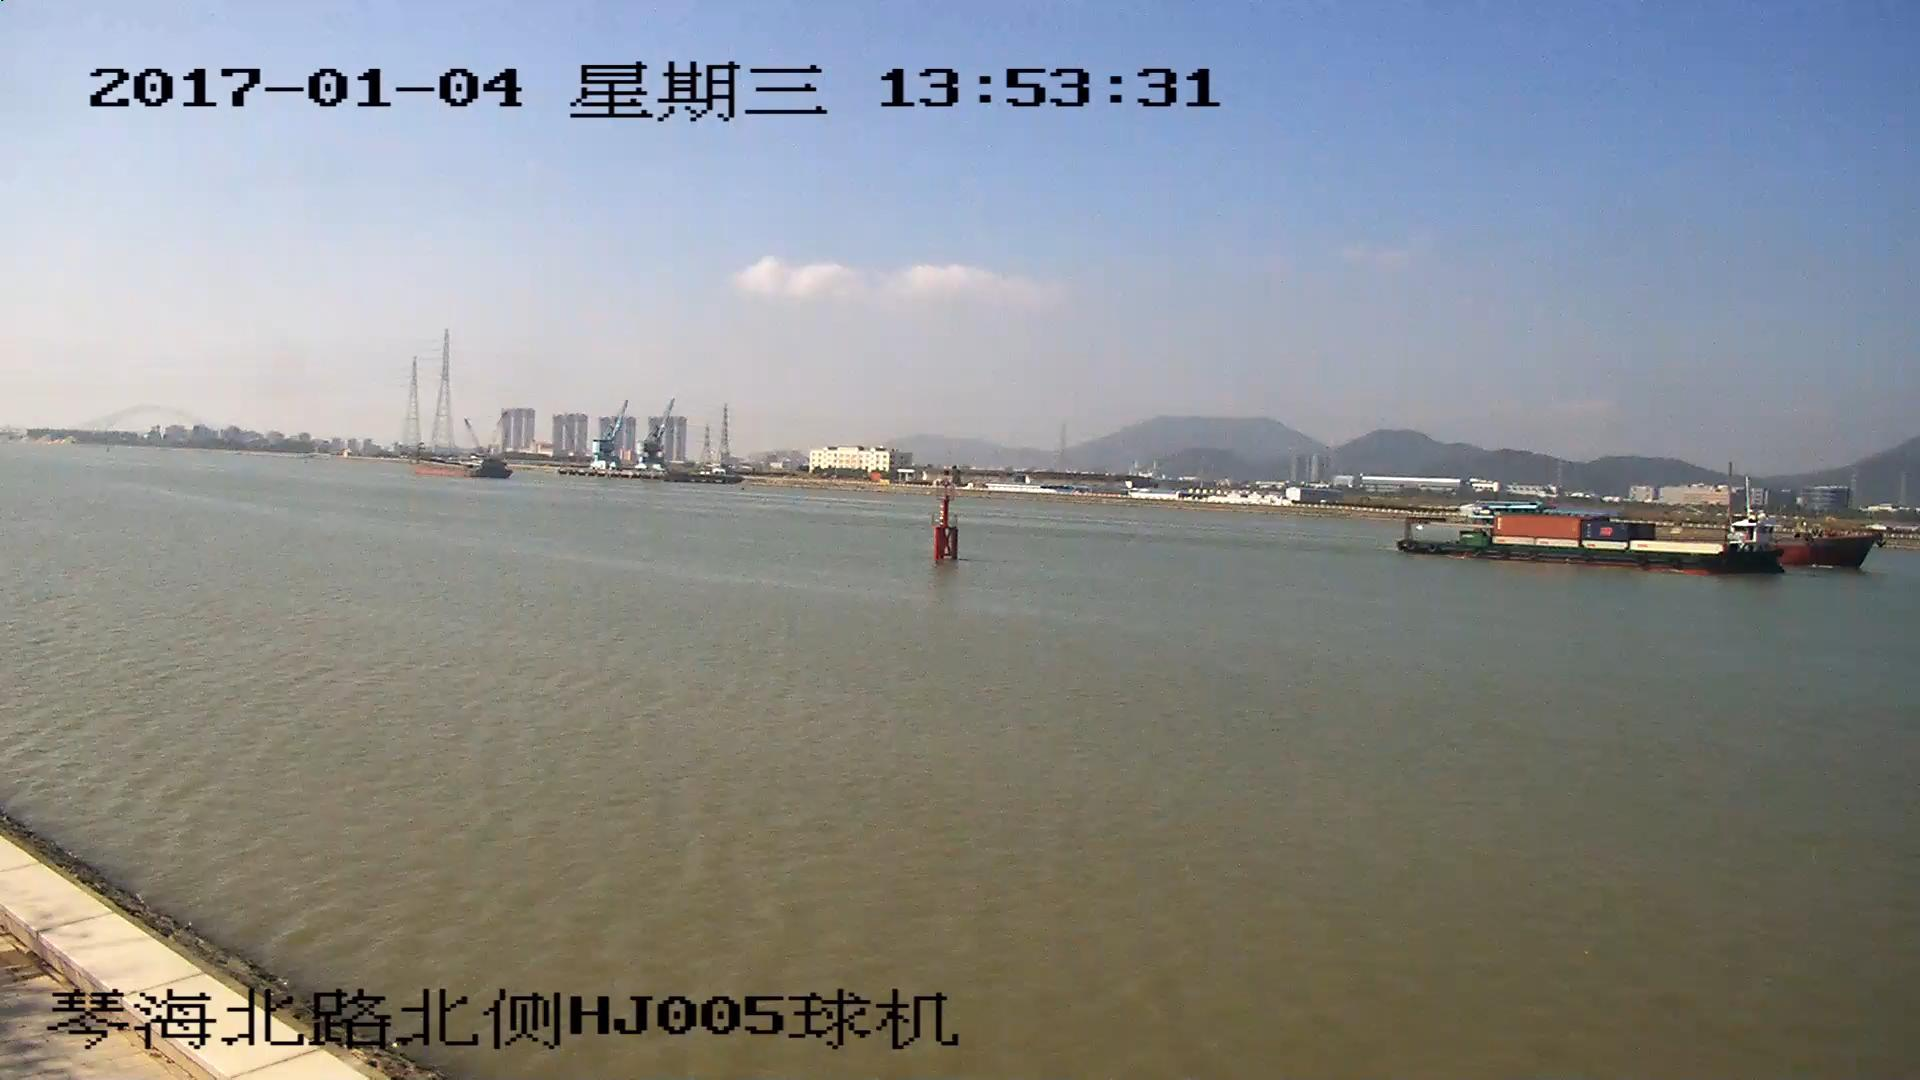Ship: (1406, 508, 1788, 576)
